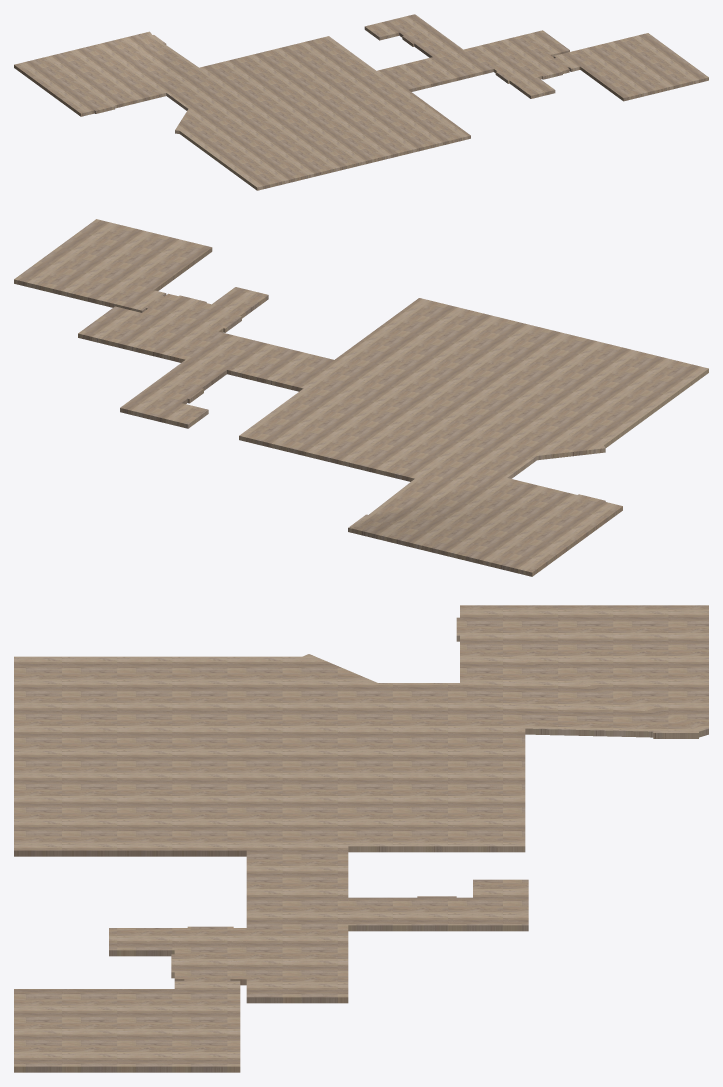
File: 1989_kitchen_Floor_RivergroveValorOak.gltf
The picture shows the model from 3 angles, top to bottom: view 1: azimuth 30°, elevation 25°; view 2: azimuth 150°, elevation 25°; view 3: azimuth 270°, elevation 25°; orthographic projection. The views are drawn at different scales.
Visible parts, largest first — view 1: Floors_Rivergrove_valor_oak; view 2: Floors_Rivergrove_valor_oak; view 3: Floors_Rivergrove_valor_oak.
Part boxes in pixels (x1,y1,x2,y2): Floors_Rivergrove_valor_oak: (14,14,708,190); Floors_Rivergrove_valor_oak: (14,219,708,576); Floors_Rivergrove_valor_oak: (14,605,708,1072).
Size of the model in its own units: 33.3 by 0.3 by 21.2.
1 material, 1 textured.
